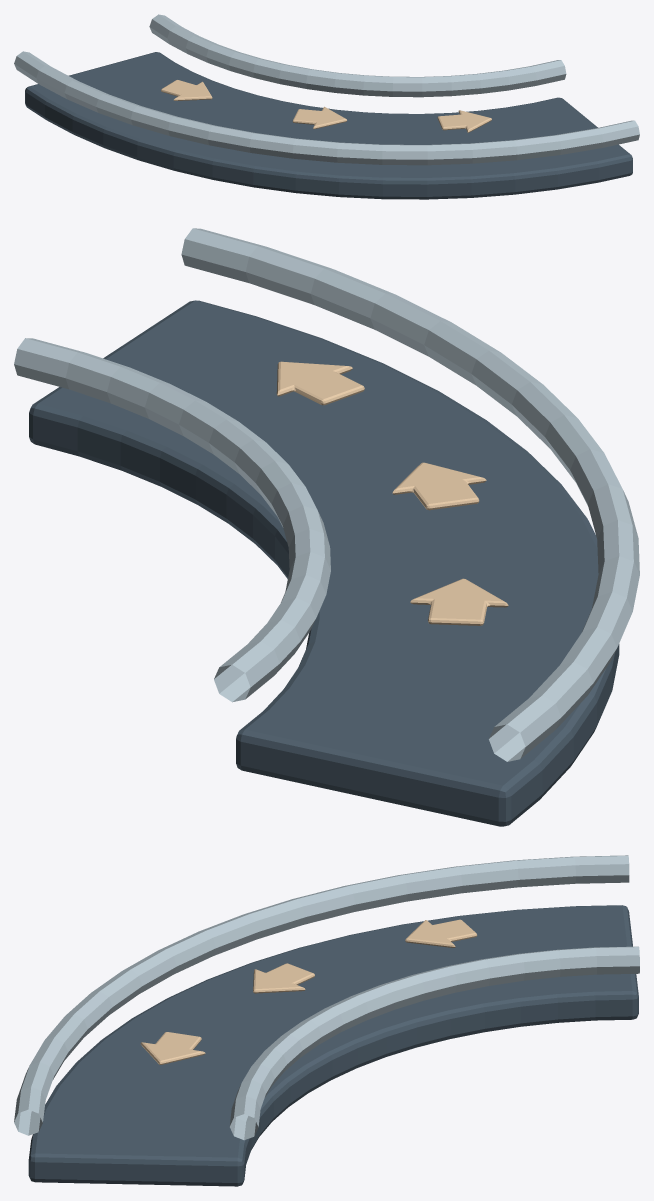
File: PR3D_Rail_Curve90_Left.fbx
3 renders of one model, top to bottom at view 1: azimuth 30°, elevation 25°; view 2: azimuth 150°, elevation 25°; view 3: azimuth 270°, elevation 25°, orthographic. The views are drawn at different scales.
Visible parts, largest first — view 1: Visual_CurveDeck_Left, Visual_CurveRail_Left_-1, Visual_CurveRail_Left_+1, Arrow_Curve_Left_08, Arrow_Curve_Left_12, Arrow_Curve_Left_04; view 2: Visual_CurveDeck_Left, Visual_CurveRail_Left_-1, Visual_CurveRail_Left_+1, Arrow_Curve_Left_12, Arrow_Curve_Left_08, Arrow_Curve_Left_04; view 3: Visual_CurveDeck_Left, Visual_CurveRail_Left_-1, Visual_CurveRail_Left_+1, Arrow_Curve_Left_08, Arrow_Curve_Left_04, Arrow_Curve_Left_12.
Part boxes in pixels (box(x1,y1,x2,y2)): Visual_CurveDeck_Left: box(25, 52, 632, 199); Visual_CurveRail_Left_-1: box(14, 51, 639, 165); Visual_CurveRail_Left_+1: box(149, 14, 566, 97); Arrow_Curve_Left_08: box(292, 106, 347, 129); Arrow_Curve_Left_12: box(437, 110, 491, 132); Arrow_Curve_Left_04: box(161, 80, 212, 100); Visual_CurveDeck_Left: box(29, 300, 619, 826); Visual_CurveRail_Left_-1: box(181, 228, 639, 761); Visual_CurveRail_Left_+1: box(14, 338, 330, 702); Arrow_Curve_Left_12: box(276, 361, 364, 405); Arrow_Curve_Left_08: box(392, 462, 486, 510); Arrow_Curve_Left_04: box(410, 578, 508, 625); Visual_CurveDeck_Left: box(28, 905, 638, 1186); Visual_CurveRail_Left_-1: box(14, 855, 629, 1135); Visual_CurveRail_Left_+1: box(229, 946, 639, 1140); Arrow_Curve_Left_08: box(253, 963, 314, 993); Arrow_Curve_Left_04: box(405, 919, 477, 947); Arrow_Curve_Left_12: box(140, 1032, 205, 1064).
Bounding box in the file's own units: 2.38 × 0.315 × 2.38.
